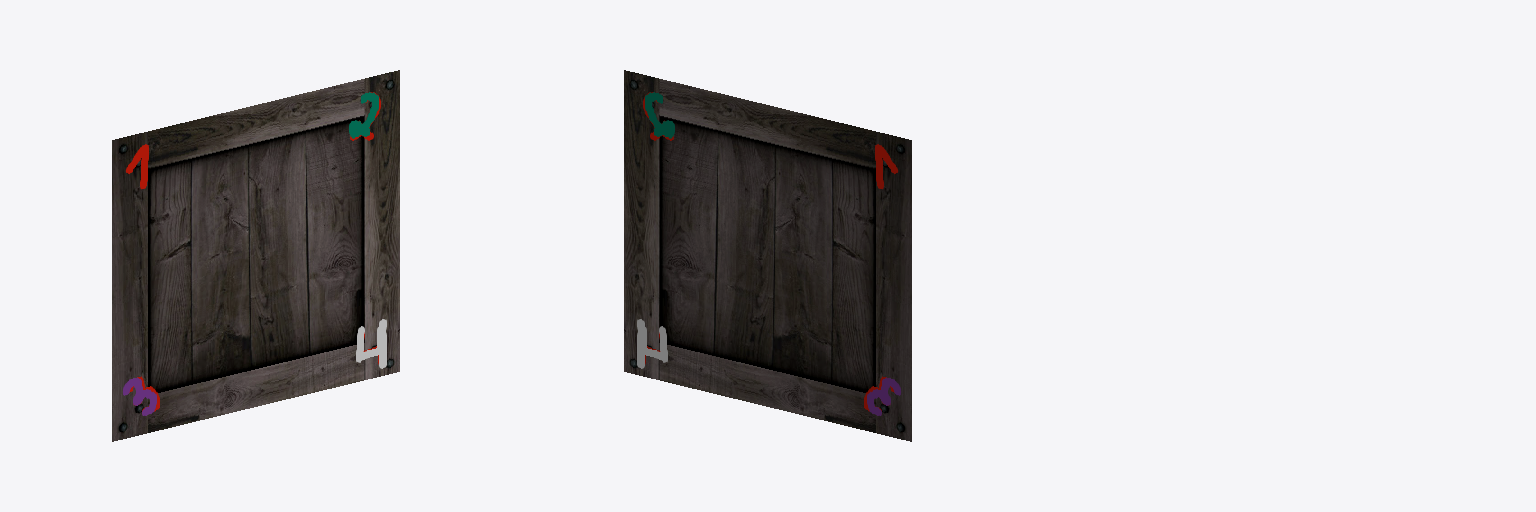
3 views of the same model, side by side, from view 1: azimuth 30°, elevation 25°; view 2: azimuth 150°, elevation 25°; view 3: azimuth 270°, elevation 25° (orthographic).
Visible parts, largest first — view 1: cube; view 2: cube; view 3: none.
Part boxes in pixels (left/top/right/bottom): cube: left=112, top=70, right=399, bottom=441; cube: left=624, top=70, right=911, bottom=441.
Size of the model in its own units: 2 by 2 by 0.
1 materials, 1 textured.